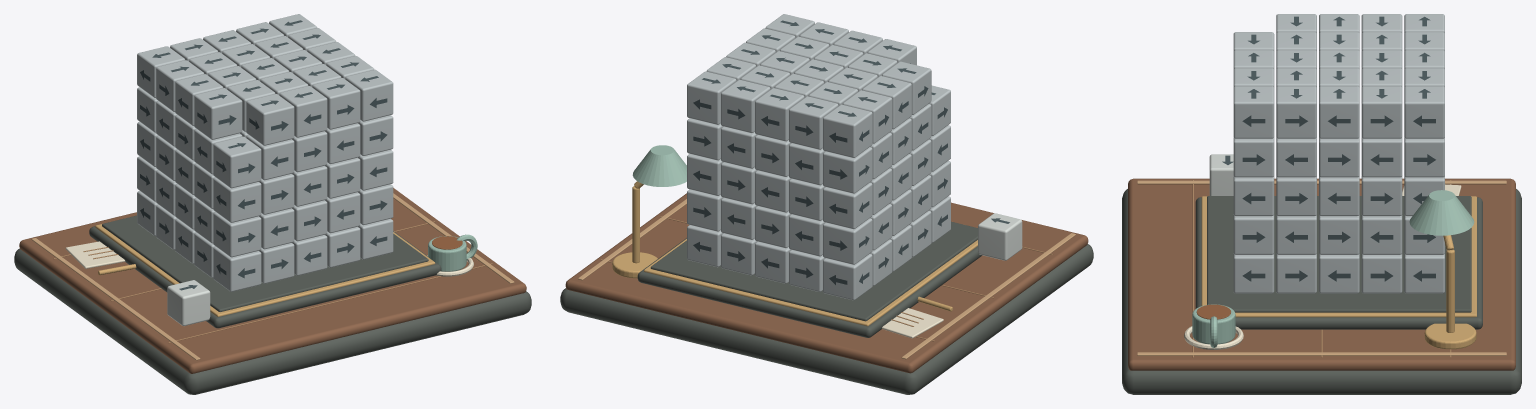
File: Cubenikal.glb
3 renders of one model, left to right at view 1: azimuth 30°, elevation 25°; view 2: azimuth 150°, elevation 25°; view 3: azimuth 270°, elevation 25°, orthographic. The views are drawn at different scales.
Parts seen in each view (by area): view 1: steel puzzle blocks, walnut tabletop, base, velvet tray, directional arrows, mat, brass rim, released block, end grain trim, puzzle note, cup, end grain trim.001 (+1 smaller); view 2: steel puzzle blocks, walnut tabletop, base, velvet tray, directional arrows, mat, brass rim, released block, lamp shade, end grain trim, puzzle note, lamp foot (+2 smaller); view 3: steel puzzle blocks, walnut tabletop, base, velvet tray, directional arrows, mat, brass rim, lamp shade, end grain trim.001, lamp foot, cup, released block (+4 smaller).
Boxes of the visible parts, box(x1,y1,x2,y2) form: steel puzzle blocks: box(137, 14, 393, 291); walnut tabletop: box(19, 188, 526, 373); base: box(14, 248, 531, 394); velvet tray: box(102, 215, 428, 311); directional arrows: box(140, 20, 387, 290); mat: box(89, 226, 441, 328); brass rim: box(95, 224, 435, 316); released block: box(167, 280, 210, 326); end grain trim: box(31, 238, 200, 360); puzzle note: box(65, 241, 125, 268); cup: box(428, 236, 466, 271); end grain trim.001: box(393, 193, 514, 283); steel puzzle blocks: box(687, 14, 950, 300); walnut tabletop: box(565, 193, 1088, 373); base: box(560, 244, 1093, 394); velvet tray: box(650, 221, 977, 321); directional arrows: box(693, 20, 1009, 284); mat: box(637, 238, 982, 337); brass rim: box(644, 238, 977, 326); released block: box(978, 213, 1022, 260); lamp shade: box(632, 145, 686, 186); end grain trim: box(901, 233, 1075, 359); puzzle note: box(882, 308, 943, 338); lamp foot: box(612, 252, 657, 278); steel puzzle blocks: box(1233, 14, 1444, 293); walnut tabletop: box(1128, 178, 1515, 370); base: box(1122, 189, 1521, 394); velvet tray: box(1207, 196, 1471, 312); directional arrows: box(1222, 16, 1435, 281); mat: box(1195, 197, 1482, 329); brass rim: box(1201, 196, 1476, 317); lamp shade: box(1409, 190, 1474, 235); end grain trim.001: box(1137, 352, 1506, 355); lamp foot: box(1424, 323, 1476, 349); cup: box(1192, 304, 1235, 344); released block: box(1209, 154, 1233, 195).
Size of the model in its own units: 4.15 by 2.52 by 3.7.
